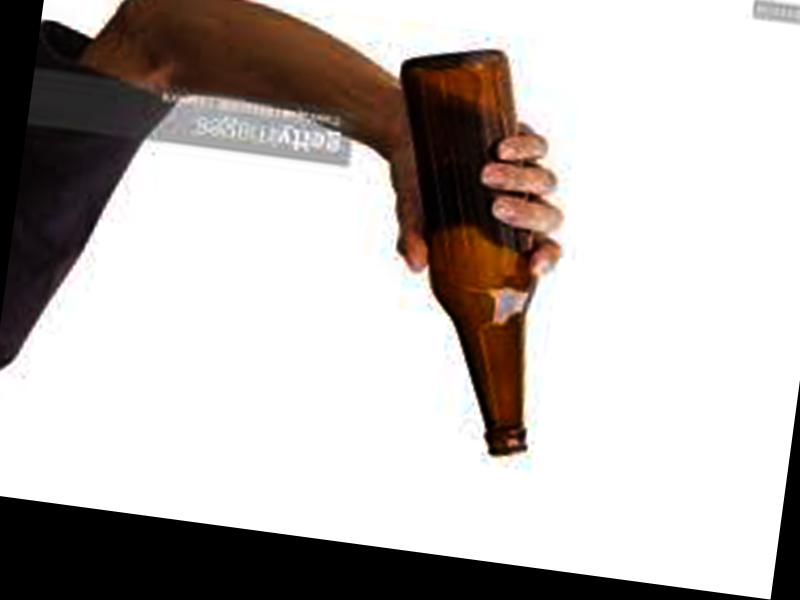Beer: (348, 40, 578, 457)
